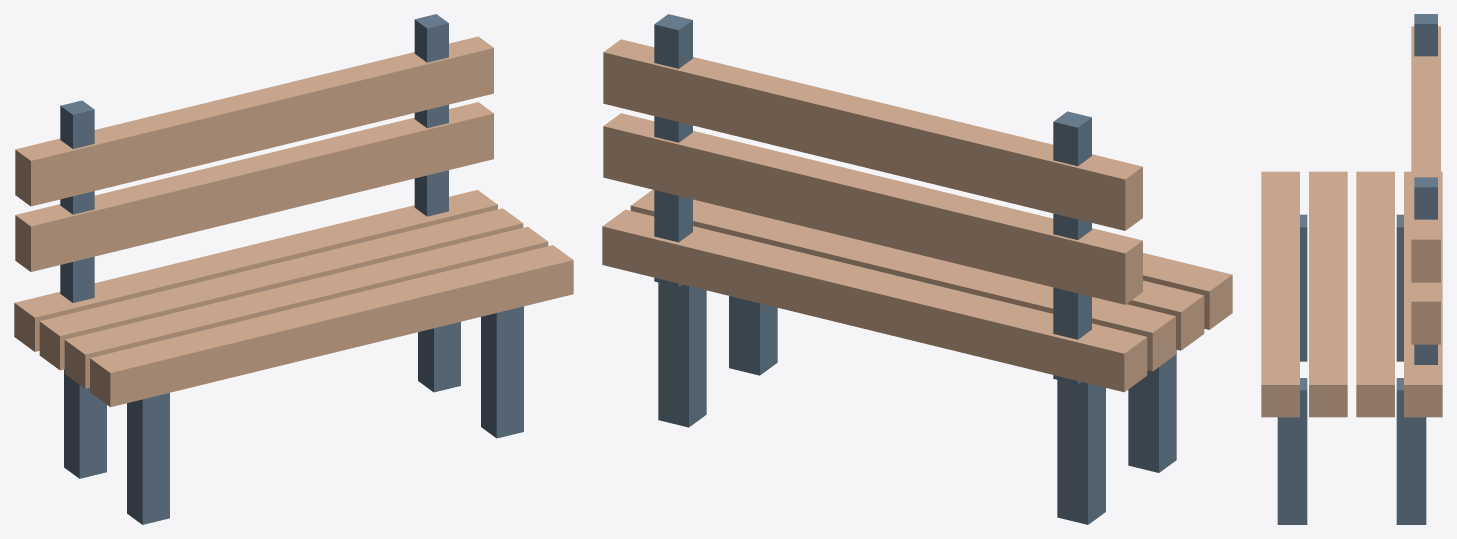
The model's file is 15_bench.glb.
3 renders of one model, left to right at view 1: azimuth 30°, elevation 25°; view 2: azimuth 150°, elevation 25°; view 3: azimuth 270°, elevation 25°, orthographic. The views are drawn at different scales.
Visible parts, largest first — view 1: 15_bench; view 2: 15_bench; view 3: 15_bench.
Part boxes in pixels (x1,y1,x2,y2): 15_bench: (14, 14, 573, 524); 15_bench: (602, 14, 1232, 524); 15_bench: (1261, 14, 1442, 524).
Bounding box in the file's own units: 1.7 × 1.25 × 0.61.
